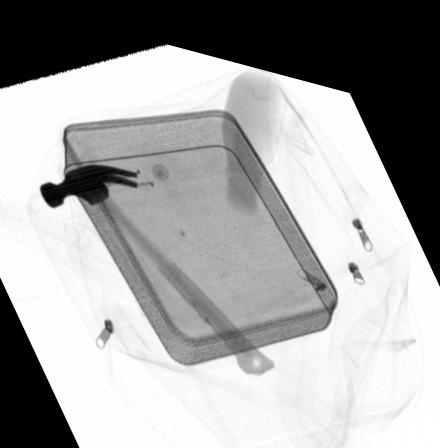Hammer: (35, 156, 275, 364)
